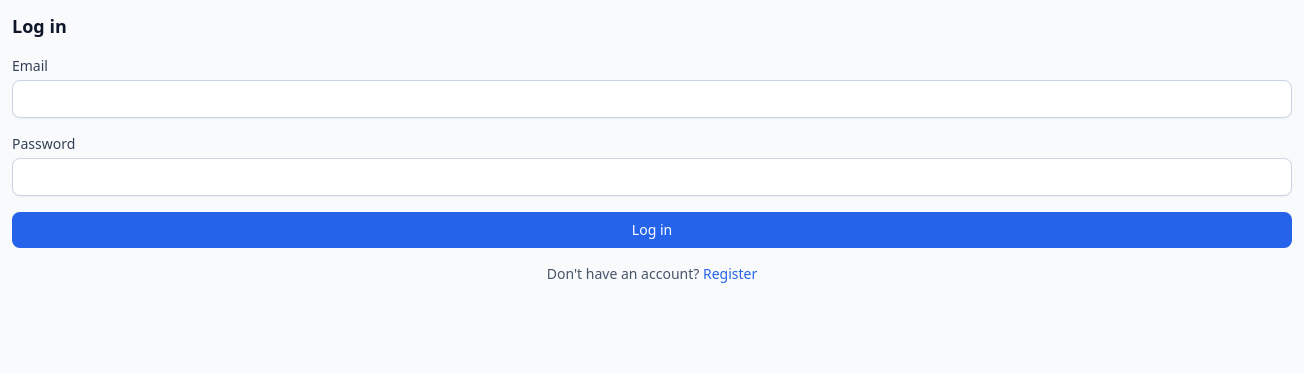
Test case: Authentication cold-start notice on slow requests › LoginPage › a pending login request does not leave the notice visible after unmount
Type "user@example.com" into the field labelled "Email" at (652, 99), box [12, 80, 1292, 118]
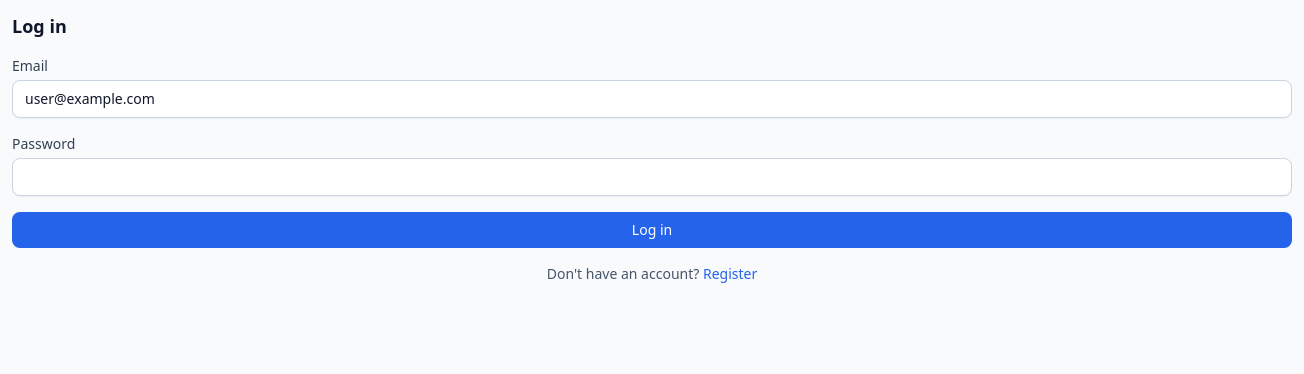
Type "password123" into the password field labelled "Password" at (652, 177), box [12, 158, 1292, 196]
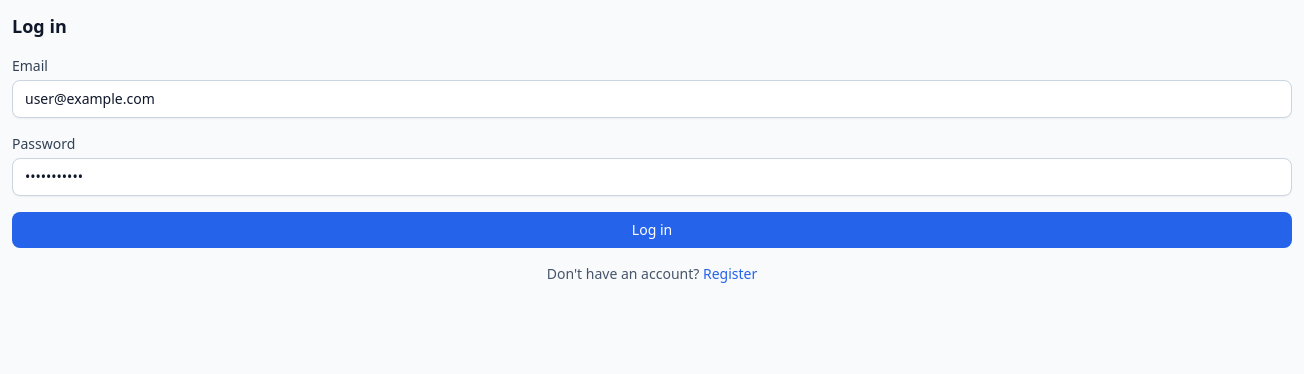
Click the button "Log in" at (652, 230), box [12, 212, 1292, 248]
Wait 4100 ms
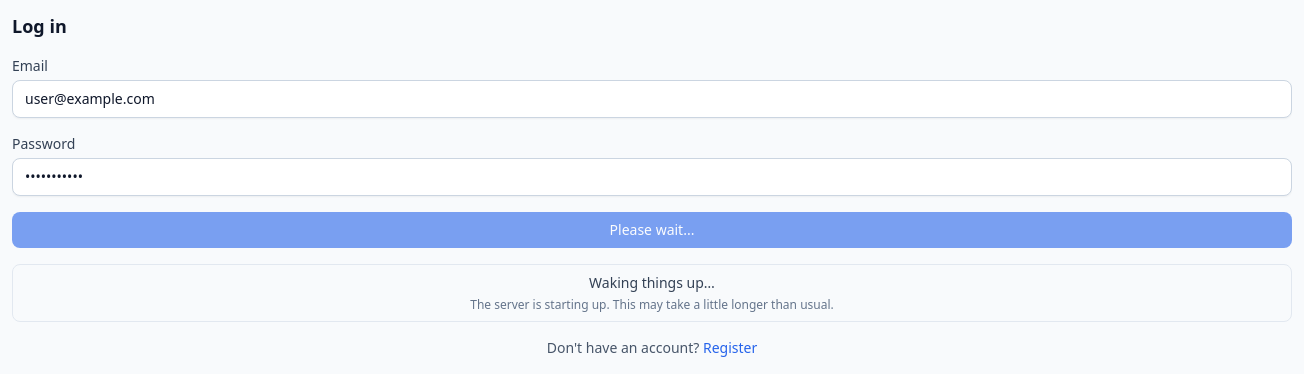
expect the text "Waking things up…" is shown: met, box [589, 273, 715, 292]
